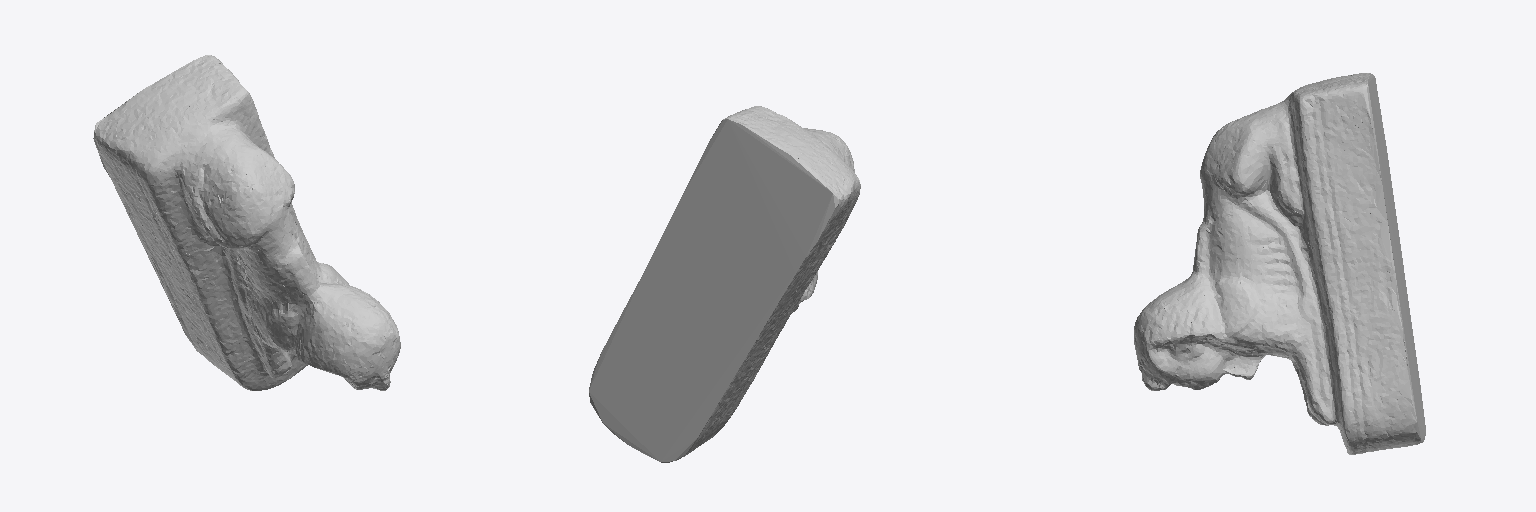
The model's file is Sphinx.obj.
3 renders of one model, left to right at view 1: azimuth 30°, elevation 25°; view 2: azimuth 150°, elevation 25°; view 3: azimuth 270°, elevation 25°, orthographic.
Visible parts, largest first — view 1: Group_Global; view 2: Group_Global; view 3: Group_Global.
Boxes of the visible parts, box(x1,y1,x2,y2) form: Group_Global: box(93, 55, 400, 390); Group_Global: box(589, 106, 860, 462); Group_Global: box(1134, 73, 1425, 454).
Size of the model in its own units: 3.6 by 5.04 by 3.92.